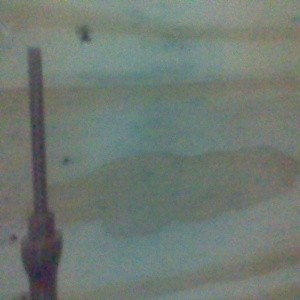obeng: (19, 46, 63, 300)
